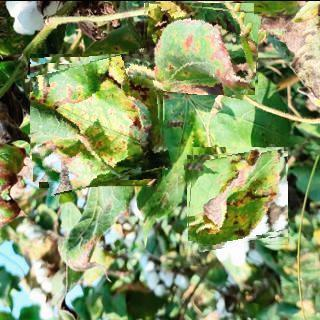blight: (31, 53, 167, 189), (140, 0, 258, 94), (186, 146, 288, 248)
